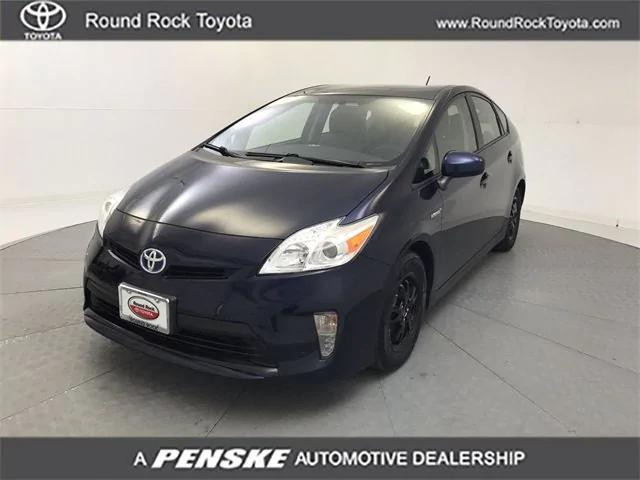Toyota Prius: (80, 80, 527, 384)
